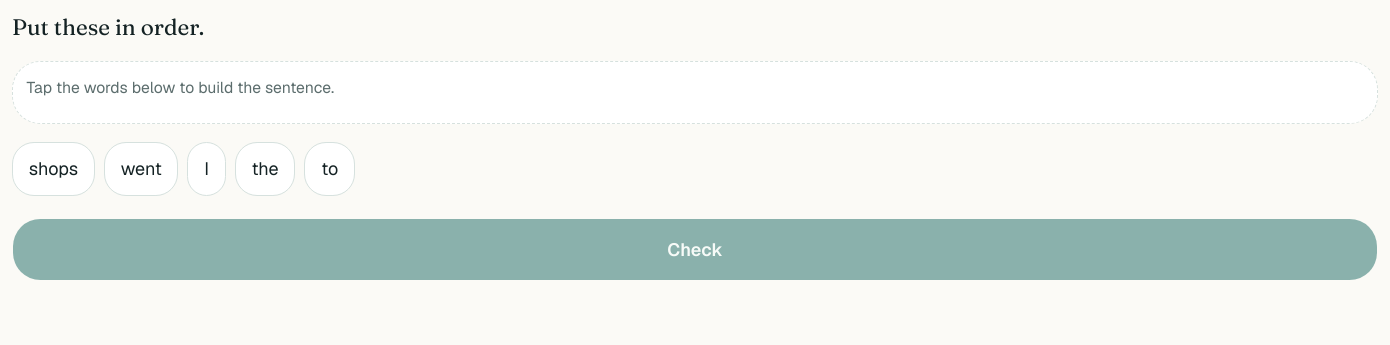
Test: word_bank_order shows the correct order on the wrong path › shows nothing extra when the order was right
The image size is (1390, 345).
Step 1. Click the button "I" → (207, 169), box [188, 142, 226, 196]
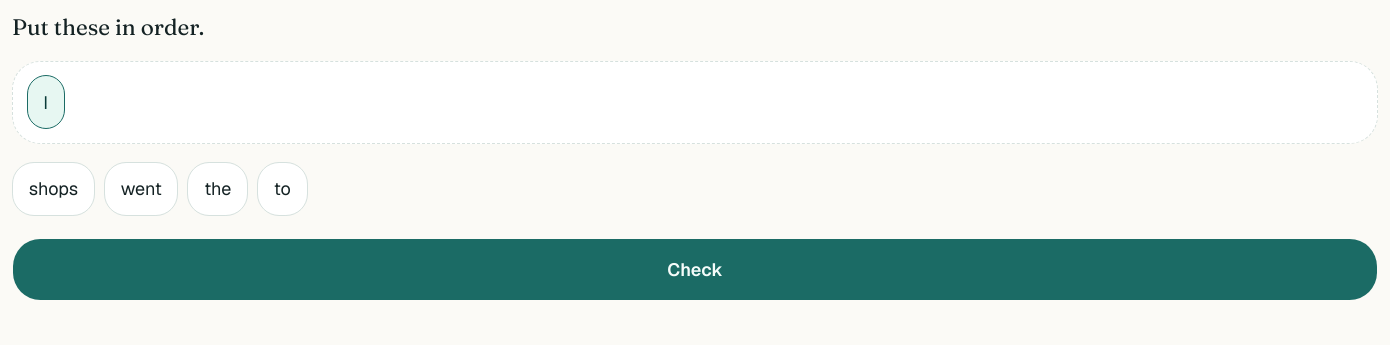
Step 2. Click the button "Check" → (695, 270), box [12, 238, 1378, 301]
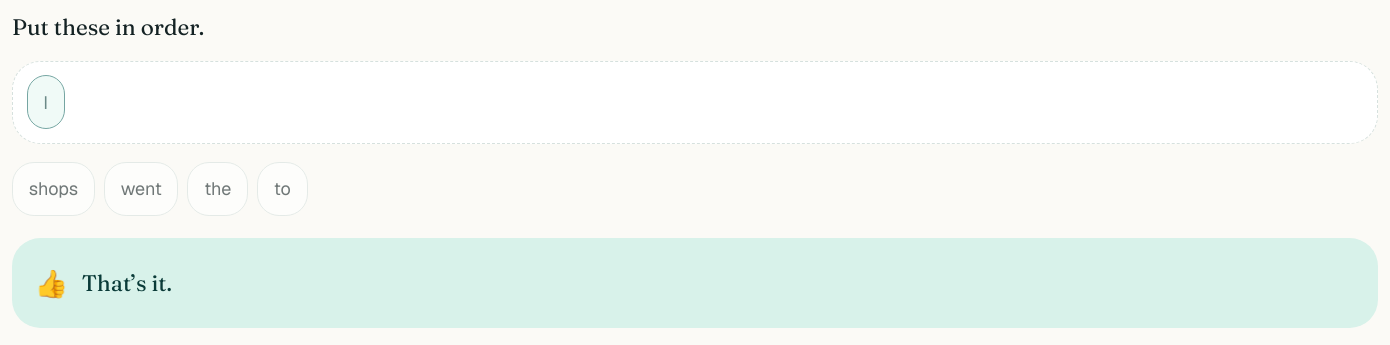
Result: the element with test id "feedback" is shown at [12, 238, 1378, 328]
